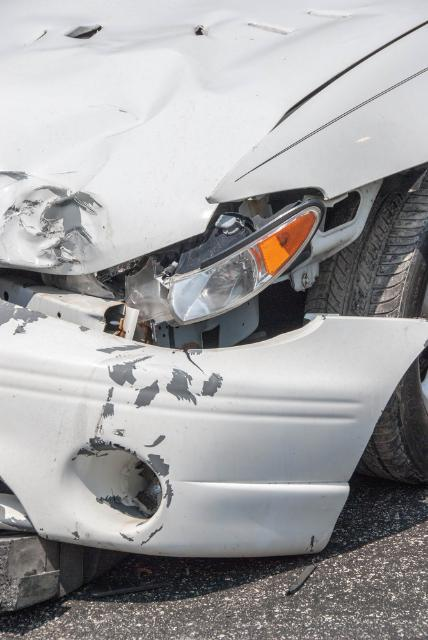crack: (182, 349, 204, 373), (60, 26, 103, 38)
dent: (0, 0, 384, 275)
dislocated part: (0, 163, 427, 561)
lamp broken: (127, 191, 324, 322)
scratch: (76, 338, 222, 545)
